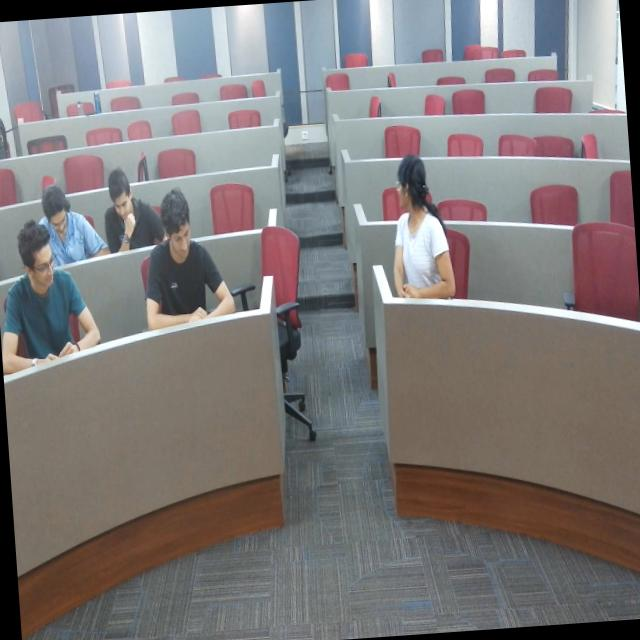cheating: (373, 141, 464, 293), (14, 209, 90, 360)
non-cheating: (138, 193, 215, 351), (100, 166, 146, 250), (38, 182, 86, 258)
